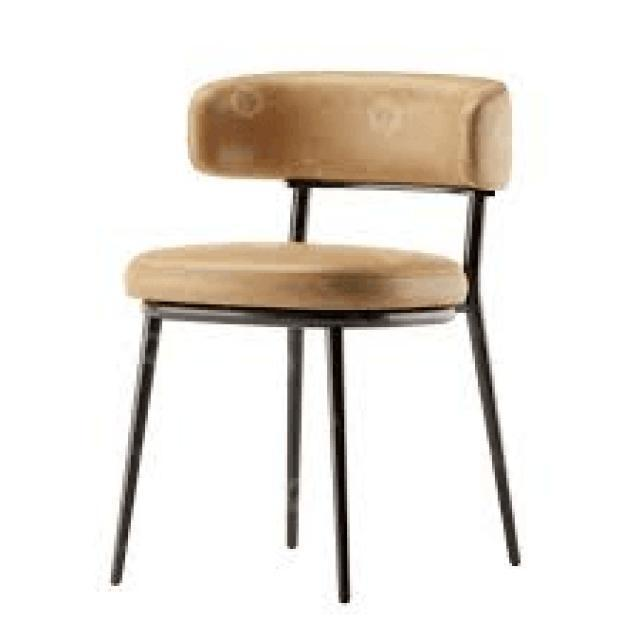chair: (104, 65, 528, 607), (119, 58, 517, 326)
